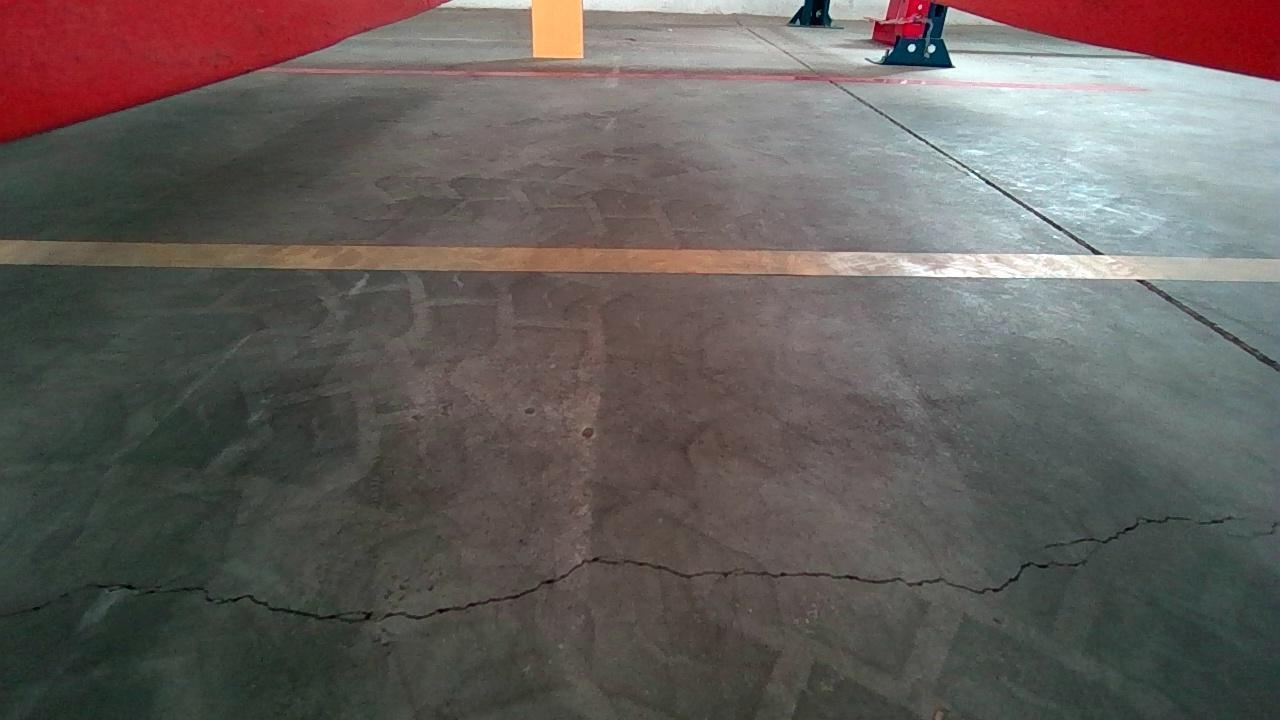red_line: (254, 61, 1145, 90)
yellow_line: (1, 238, 1280, 281)
